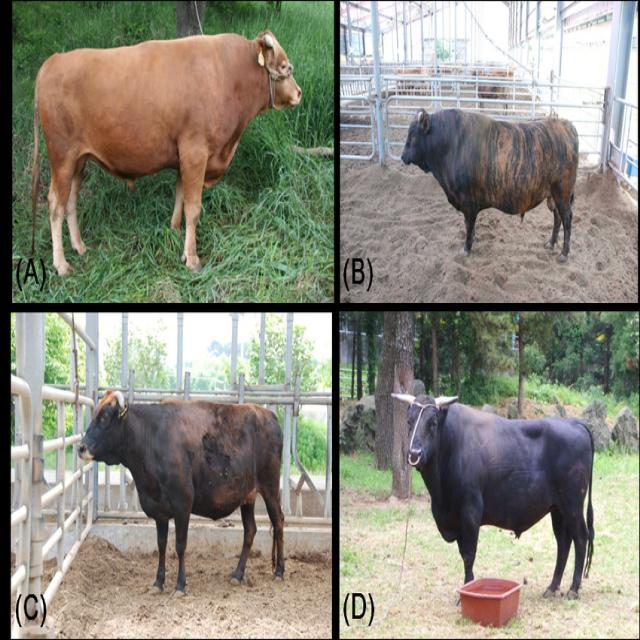Ox: (76, 384, 286, 598), (390, 390, 598, 594), (396, 100, 582, 262)
